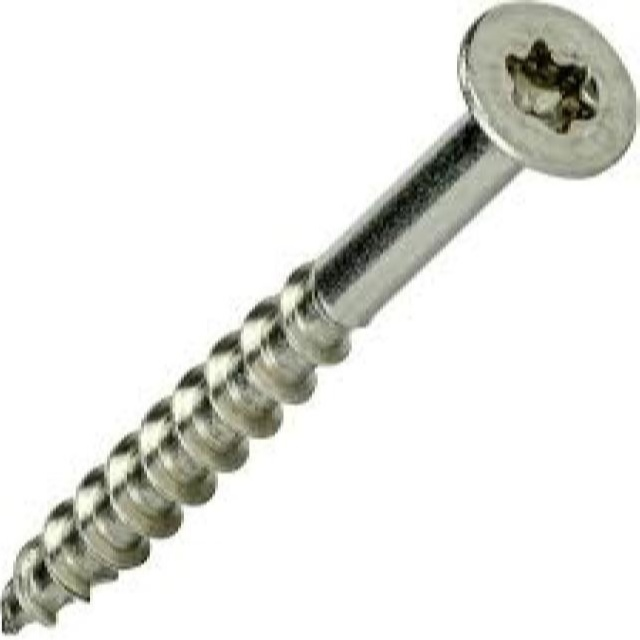torx: (459, 0, 639, 180)
